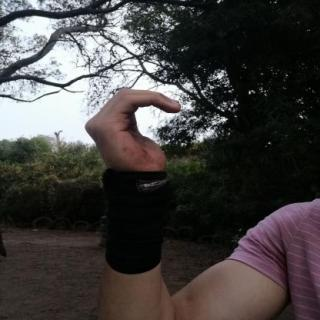HAA: (75, 79, 192, 182)
